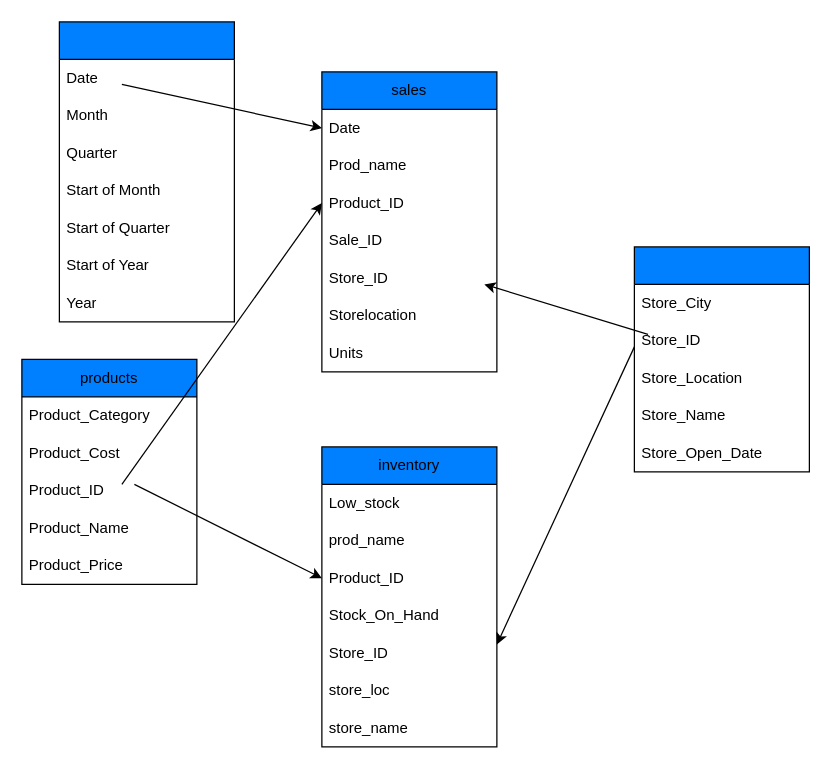
The diagram is 831 pixels wide and 769 high, and some of its shapes have lost their labels. The box of each missing label's shape, as (x1, y1, x2, y2) in pixels:
calendar: (58, 21, 234, 322)
stores: (633, 246, 809, 472)
